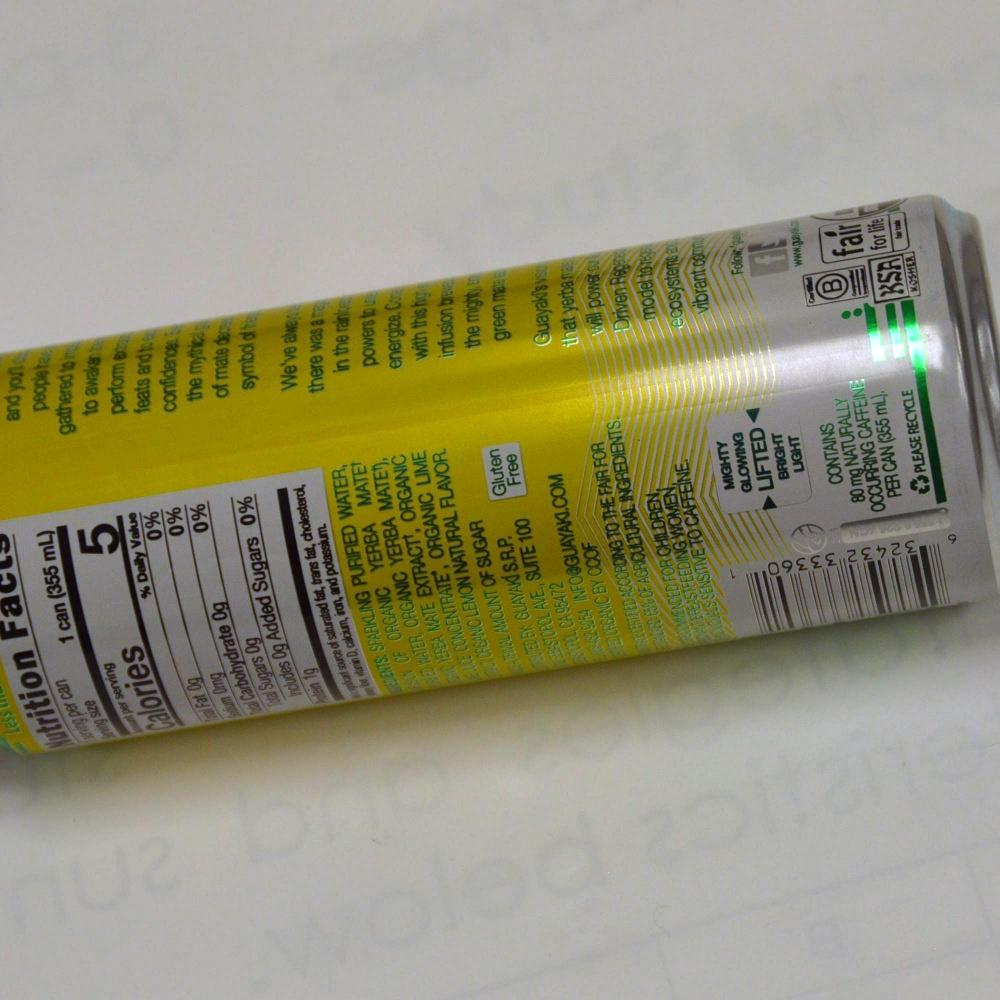Metal: (11, 180, 956, 798)
